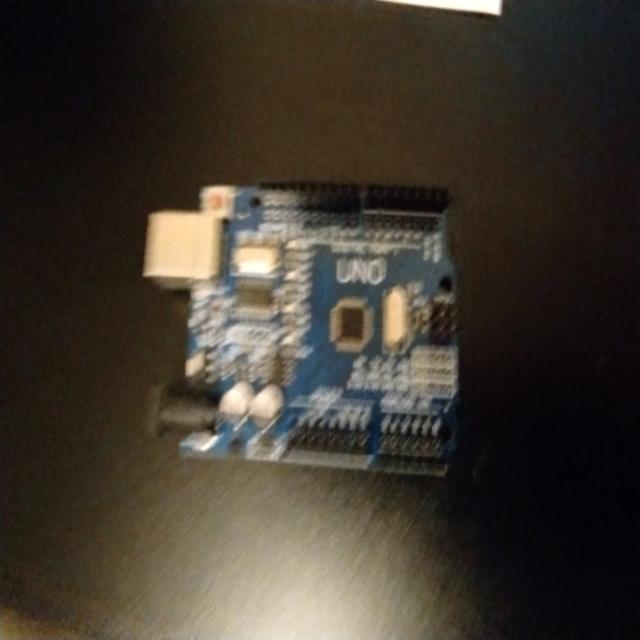arduino: (175, 181, 455, 483)
